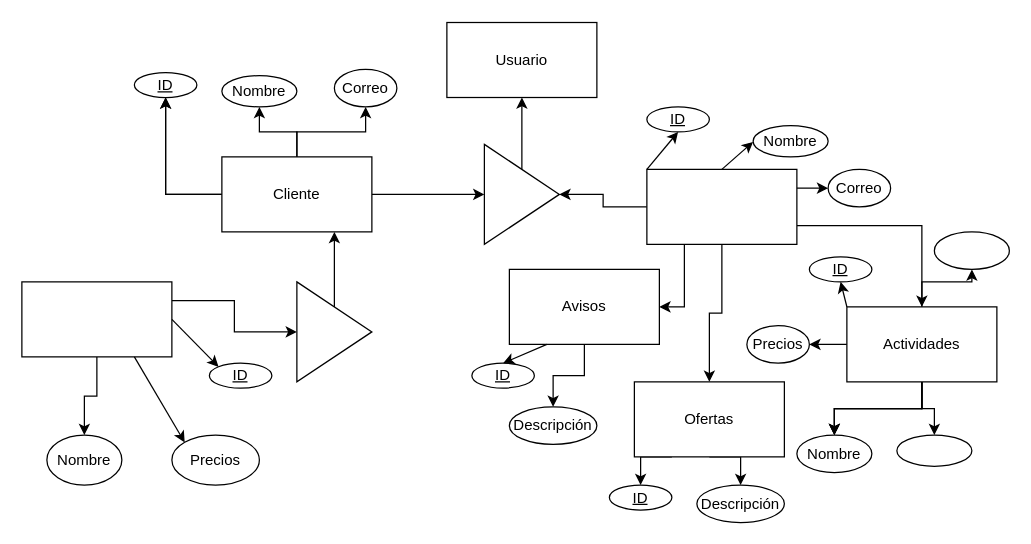
The diagram is 1031 pixels wide and 544 high, and some of its shapes have lost their labels. The shapes that lost their labels are listed below. From the top down, each one's centre as x and y in pixels, then its label:
the point at 521,193: Ingresa
the point at 721,206: Administrador
the point at 971,250: Horas
the point at 96,319: Compras
the point at 334,331: Tiene
the point at 934,450: Dias
